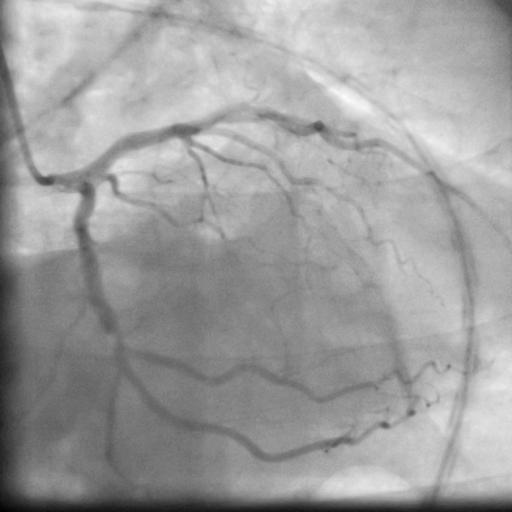Stenosis: (104, 327, 127, 346)
